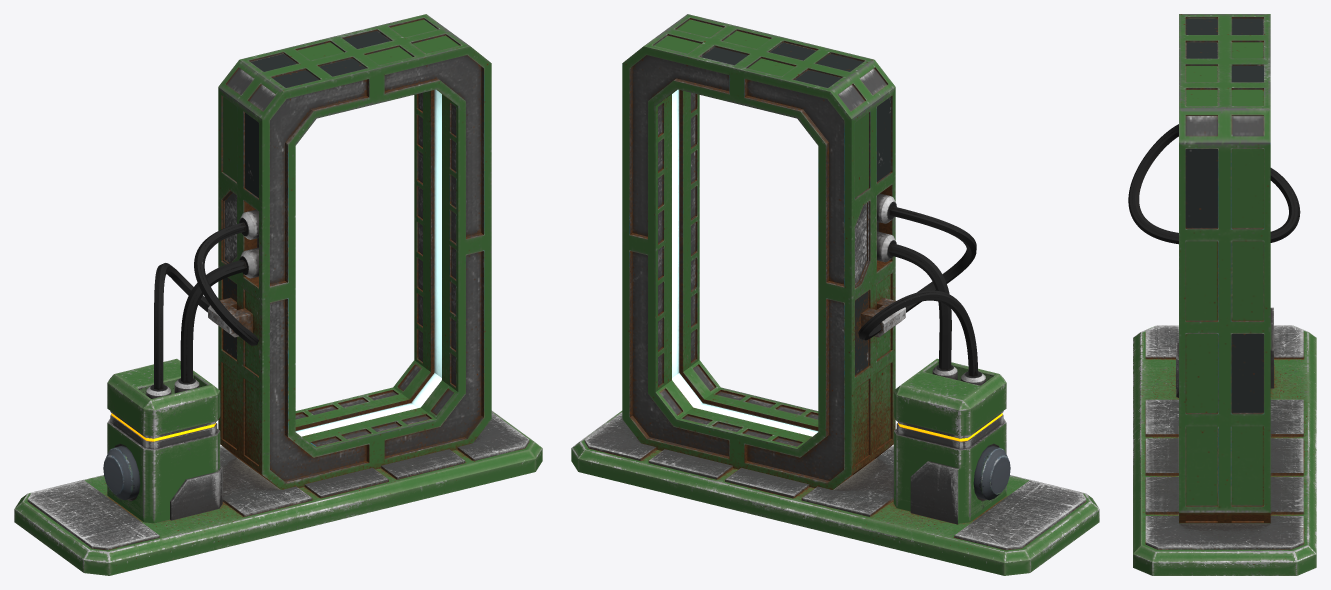
File: energy_grab_item_model_asset.glb
The picture shows the model from 3 angles, left to right: view 1: azimuth 30°, elevation 25°; view 2: azimuth 150°, elevation 25°; view 3: azimuth 270°, elevation 25°; orthographic projection. The views are drawn at different scales.
Parts seen in each view (by area): view 1: chad_gate_2, chad_gate_base_0, power_conduits_1; view 2: chad_gate_2, chad_gate_base_0, power_conduits_1; view 3: chad_gate_2, chad_gate_base_0, power_conduits_1.
Boxes of the visible parts, x1,y1,x2,y2 form: chad_gate_2: (208, 14, 491, 489); chad_gate_base_0: (14, 358, 542, 575); power_conduits_1: (154, 222, 258, 389); chad_gate_2: (622, 14, 905, 489); chad_gate_base_0: (571, 358, 1099, 575); power_conduits_1: (858, 206, 977, 376); chad_gate_2: (1179, 14, 1270, 523); chad_gate_base_0: (1133, 307, 1316, 575); power_conduits_1: (1128, 124, 1300, 244).
Size of the model in its own units: 3.36 by 2.94 by 1.15.
Materials: 3 (3 with a texture image).
